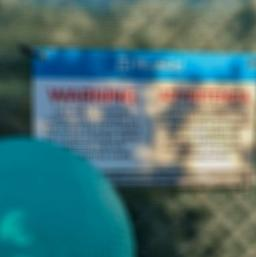algae: (0, 134, 136, 257)
